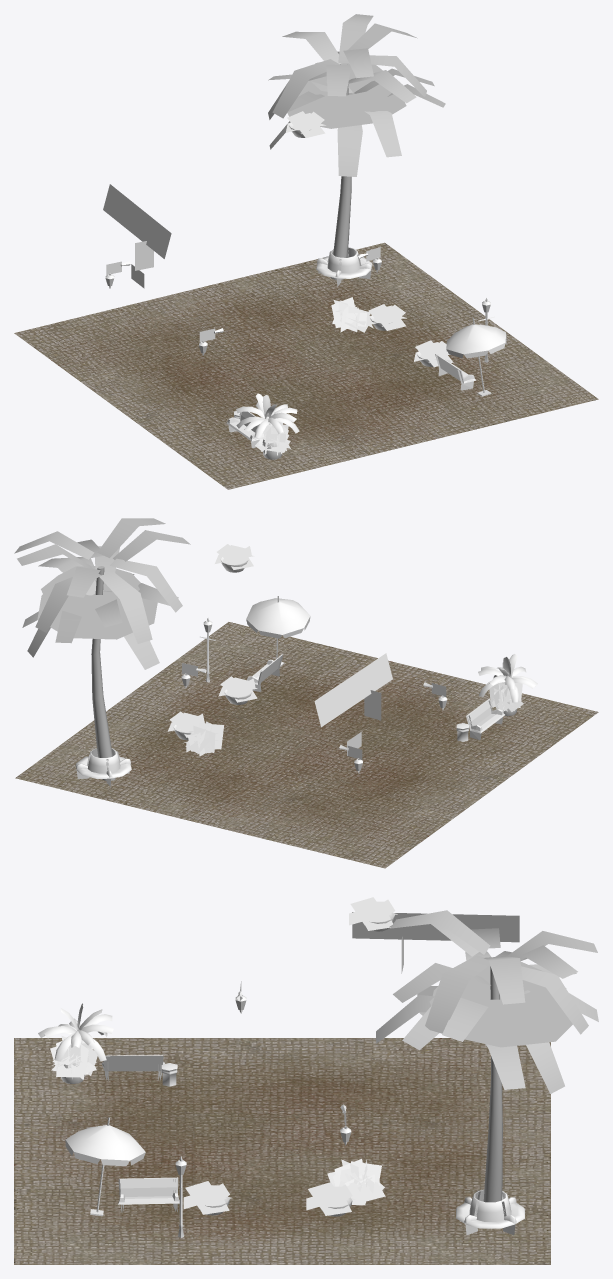
The model's file is propsonly_8.gltf.
3 renders of one model, top to bottom at view 1: azimuth 30°, elevation 25°; view 2: azimuth 150°, elevation 25°; view 3: azimuth 270°, elevation 25°, orthographic. The views are drawn at different scales.
Parts seen in each view (by area): view 1: ground.003, prop_tree8, prop_lights8, prop_sunshade8, prop_treepot_tree8, prop_bench8, prop_bush8, prop_pot_flower8, prop_pot_flower8.001, prop_treepot_bush8; view 2: ground.003, prop_tree8, prop_lights8, prop_sunshade8, prop_bench8, prop_treepot_tree8, prop_bush8, prop_bench8.002, prop_treepot_bush8, prop_pot_flower8.002, prop_pot_flower8, prop_pot_flower8.001 (+1 smaller); view 3: ground.003, prop_tree8, prop_sunshade8, prop_lights8, prop_bench8, prop_treepot_tree8, prop_bush8, prop_bench8.001, prop_treepot_bush8, prop_pot_flower8.002, prop_pot_flower8.001, prop_pot_flower8 (+1 smaller).
Part boxes in pixels (left/top/right/bottom): ground.003: left=14, top=242, right=598, bottom=489; prop_tree8: left=268, top=14, right=445, bottom=280; prop_lights8: left=103, top=184, right=171, bottom=258; prop_sunshade8: left=446, top=318, right=506, bottom=396; prop_treepot_tree8: left=236, top=393, right=299, bottom=438; prop_bench8: left=316, top=247, right=372, bottom=286; prop_bush8: left=331, top=297, right=373, bottom=332; prop_pot_flower8: left=285, top=111, right=325, bottom=137; prop_pot_flower8.001: left=367, top=304, right=406, bottom=330; prop_treepot_bush8: left=255, top=422, right=291, bottom=455; ground.003: left=15, top=622, right=598, bottom=868; prop_tree8: left=14, top=518, right=190, bottom=780; prop_lights8: left=314, top=653, right=392, bottom=727; prop_sunshade8: left=246, top=596, right=310, bottom=666; prop_bench8: left=75, top=748, right=131, bottom=786; prop_treepot_tree8: left=478, top=654, right=537, bottom=702; prop_bush8: left=182, top=721, right=224, bottom=756; prop_bench8.002: left=466, top=698, right=504, bottom=740; prop_treepot_bush8: left=489, top=682, right=523, bottom=711; prop_pot_flower8.002: left=218, top=676, right=257, bottom=702; prop_pot_flower8: left=215, top=544, right=254, bottom=569; prop_pot_flower8.001: left=167, top=711, right=205, bottom=737; ground.003: left=14, top=1038, right=550, bottom=1264; prop_tree8: left=376, top=910, right=598, bottom=1202; prop_sunshade8: left=65, top=1117, right=145, bottom=1216; prop_lights8: left=352, top=912, right=519, bottom=942; prop_bench8: left=456, top=1189, right=524, bottom=1235; prop_treepot_tree8: left=38, top=1003, right=113, bottom=1061; prop_bush8: left=327, top=1159, right=385, bottom=1205; prop_bench8.001: left=118, top=1177, right=179, bottom=1212; prop_treepot_bush8: left=50, top=1035, right=97, bottom=1079; prop_pot_flower8.002: left=183, top=1181, right=232, bottom=1214; prop_pot_flower8.001: left=306, top=1182, right=355, bottom=1215; prop_pot_flower8: left=349, top=897, right=397, bottom=930.
Size of what is drawn, in the model's own units: 3.43 by 2.16 by 3.6.
